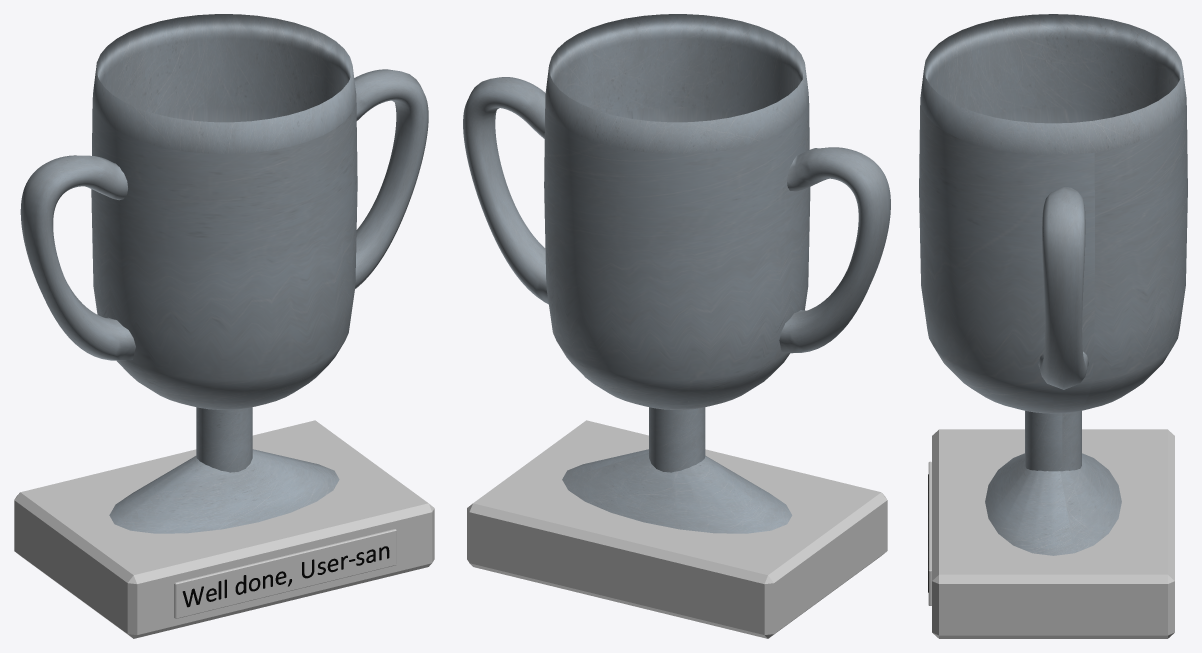
The model's file is firstChallengeCompleted.dae.
3 views of the same model, side by side, from view 1: azimuth 30°, elevation 25°; view 2: azimuth 150°, elevation 25°; view 3: azimuth 270°, elevation 25° (orthographic).
Visible parts, largest first — view 1: pCylinder2, pCube1, pCone1, nurbsToPoly2, nurbsToPoly1, pCube2, pCylinder1, typeMesh1; view 2: pCylinder2, pCube1, pCone1, nurbsToPoly2, nurbsToPoly1, pCylinder1; view 3: pCylinder2, pCube1, pCone1, nurbsToPoly1, pCylinder1, pCube2.
Boxes of the visible parts, bbox=[...] form: pCylinder2: bbox=[91, 14, 357, 409]; pCube1: bbox=[14, 420, 434, 638]; pCone1: bbox=[109, 449, 339, 533]; nurbsToPoly2: bbox=[20, 155, 135, 360]; nurbsToPoly1: bbox=[354, 69, 428, 288]; pCube2: bbox=[174, 529, 396, 618]; pCylinder1: bbox=[196, 407, 252, 472]; typeMesh1: bbox=[182, 546, 389, 607]; pCylinder2: bbox=[544, 14, 810, 409]; pCube1: bbox=[467, 420, 887, 638]; pCone1: bbox=[562, 449, 792, 533]; nurbsToPoly2: bbox=[779, 147, 890, 353]; nurbsToPoly1: bbox=[463, 77, 548, 304]; pCylinder1: bbox=[649, 407, 705, 472]; pCylinder2: bbox=[919, 14, 1187, 413]; pCube1: bbox=[932, 429, 1174, 638]; pCone1: bbox=[985, 453, 1121, 555]; nurbsToPoly1: bbox=[1038, 187, 1088, 389]; pCylinder1: bbox=[1025, 411, 1081, 471]; pCube2: bbox=[928, 461, 931, 605].
Bounding box in the file's own units: 20.36 × 23.36 × 11.44.
